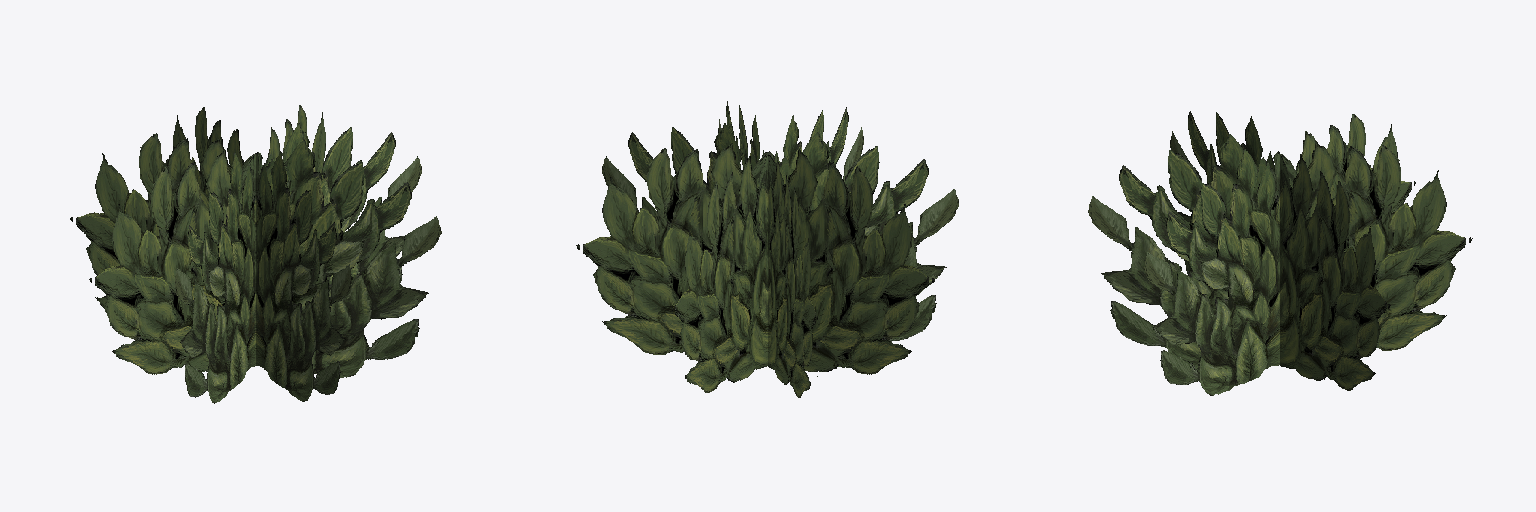
The picture shows the model from 3 angles: view 1: azimuth 30°, elevation 25°; view 2: azimuth 150°, elevation 25°; view 3: azimuth 270°, elevation 25°; orthographic projection.
Parts seen in each view (by area): view 1: Form0; view 2: Form0; view 3: Form0.
Boxes of the visible parts, <box> form: Form0: <box>70,105,441,403</box>; Form0: <box>576,101,958,397</box>; Form0: <box>1088,111,1472,395</box>.
Size of the model in its own units: 5.77 by 4.04 by 5.77.
Materials: 1 (1 with a texture image).